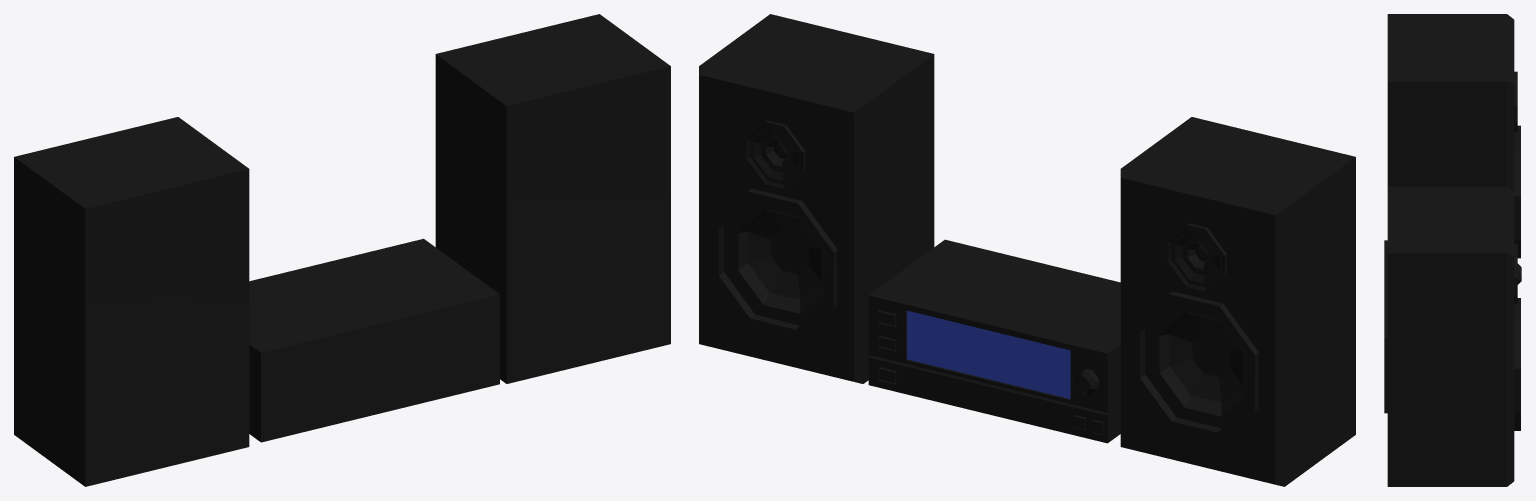
File: Stereo.fbx
3 views of the same model, side by side, from view 1: azimuth 30°, elevation 25°; view 2: azimuth 150°, elevation 25°; view 3: azimuth 270°, elevation 25° (orthographic). The views are drawn at different scales.
Visible parts, largest first — view 1: Stereo; view 2: Stereo; view 3: Stereo.
Boxes of the visible parts, <box> form: Stereo: <box>14,14,670,486</box>; Stereo: <box>699,14,1355,486</box>; Stereo: <box>1384,14,1521,486</box>.
Bounding box in the file's own units: 13.3 × 6.03 × 3.22.
